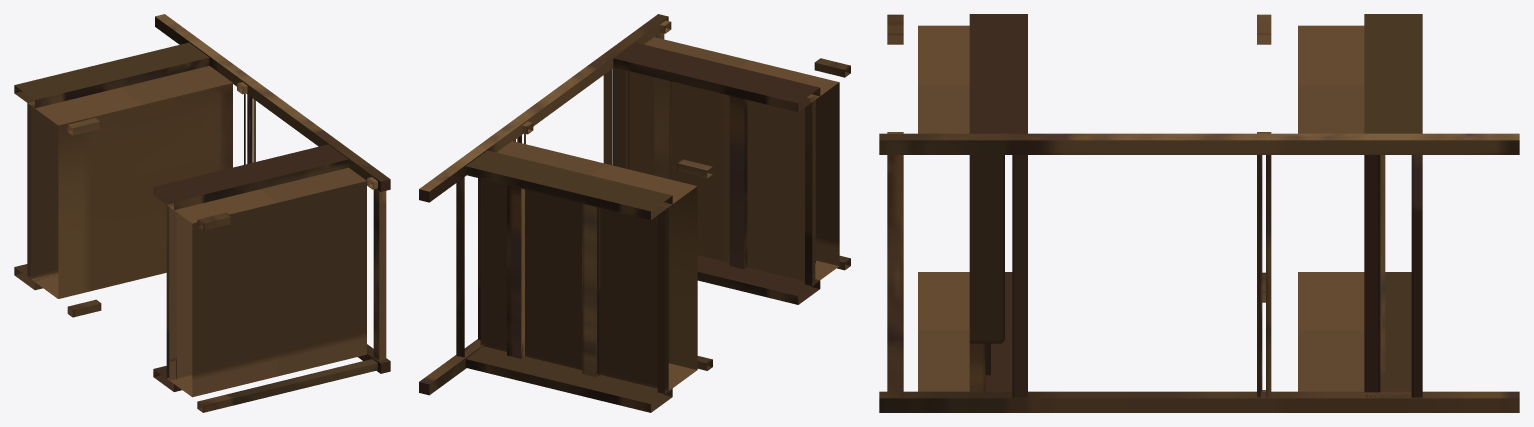
The model's file is section-3.obj.
The picture shows the model from 3 angles, left to right: view 1: azimuth 30°, elevation 25°; view 2: azimuth 150°, elevation 25°; view 3: azimuth 270°, elevation 25°; orthographic projection. The views are drawn at different scales.
Size of the model in its own units: 0.935 by 0.93 by 1.98.
